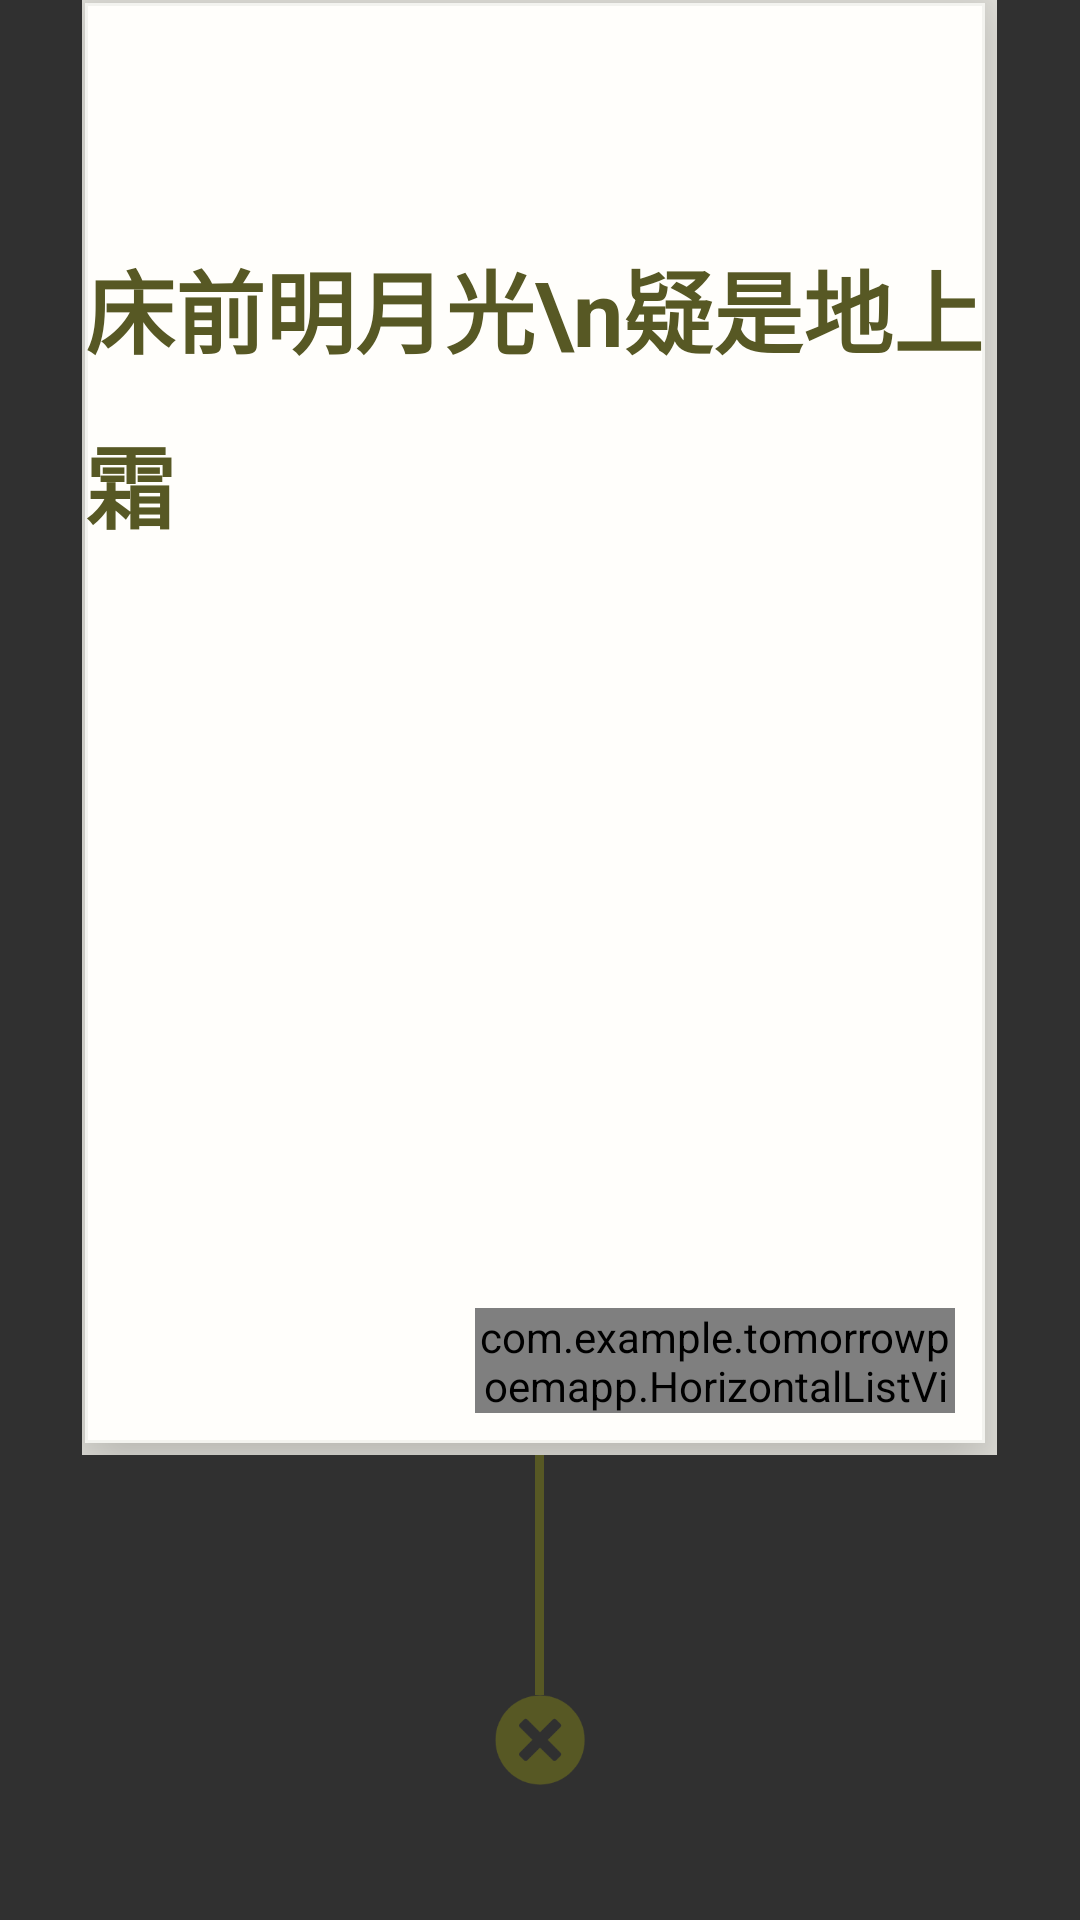

Locate icon controls on the screen. Image size 1080 x 1920, boxes as (x1, y1, x2, y2).
取消: (496, 1696, 584, 1784)
